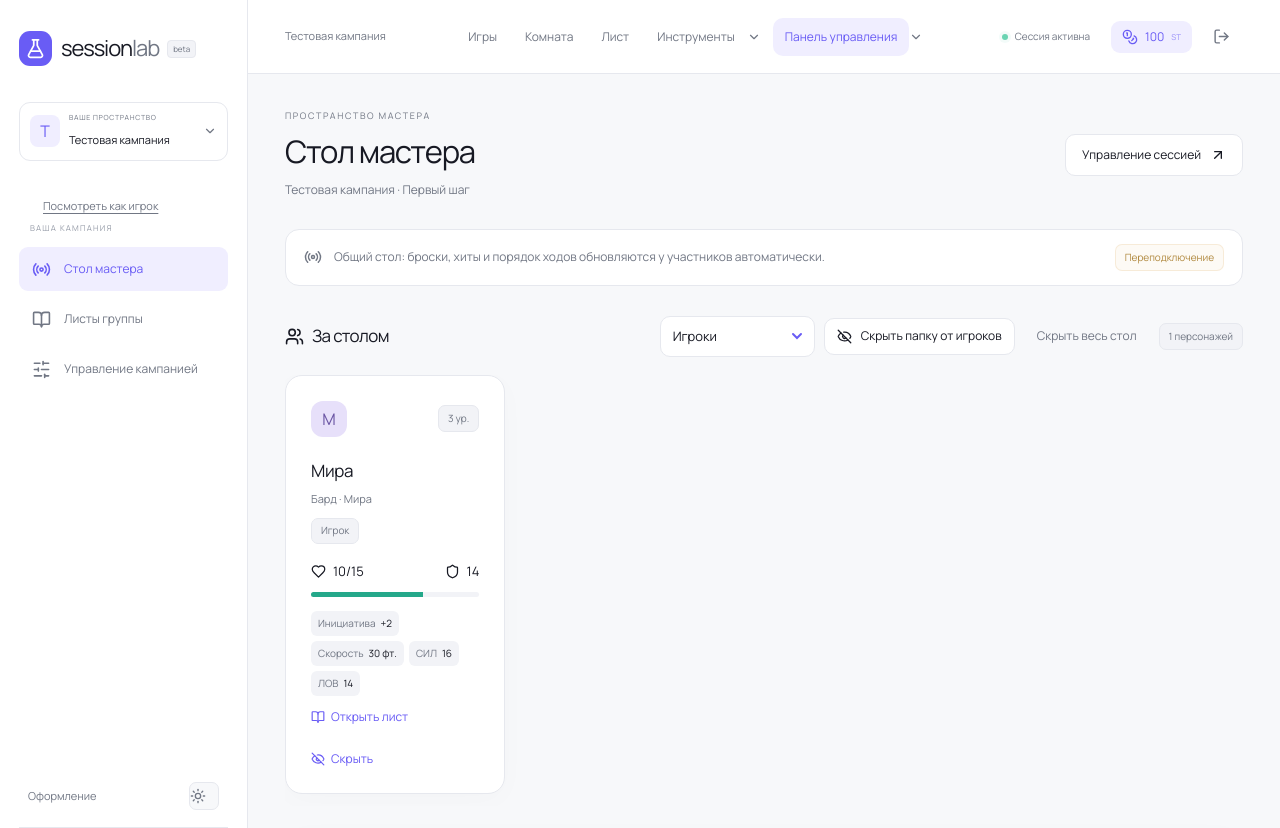
Test: lets a master hide the entire table from player view
Click the button "Скрыть весь стол" at (1087,336), box [1024,318,1150,355]
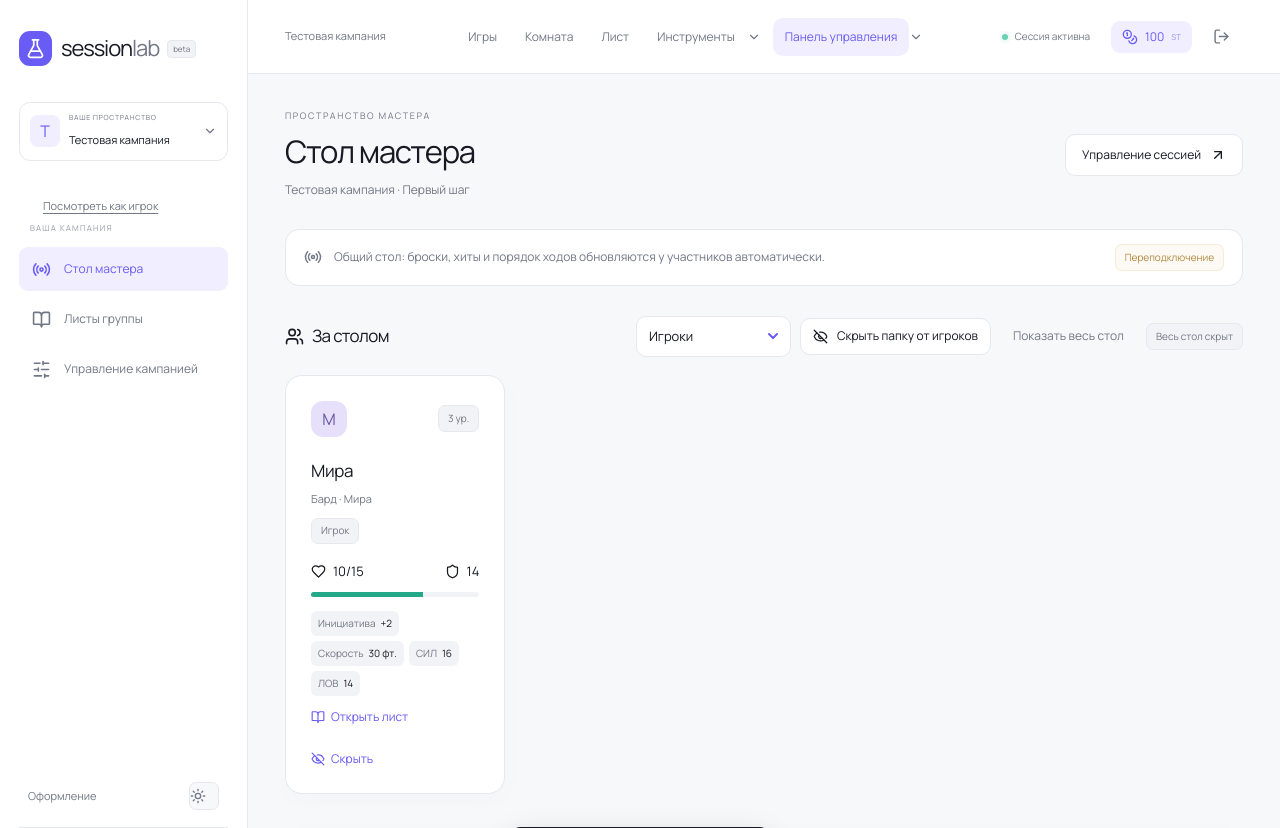
Click the link "Посмотреть как игрок" at (101,205), box [43,198,158,212]
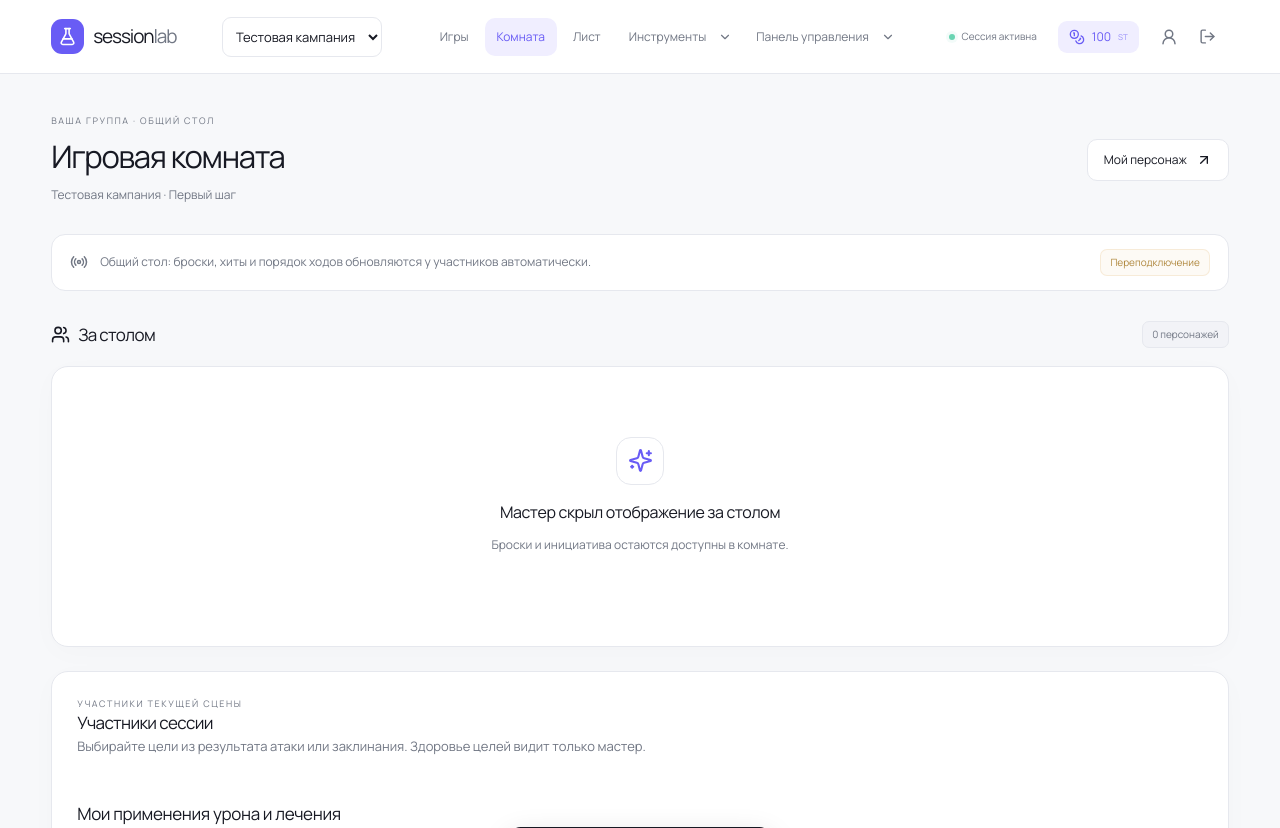
Now the heading "Мастер скрыл отображение за столом" is shown, box [500,501,780,523]
